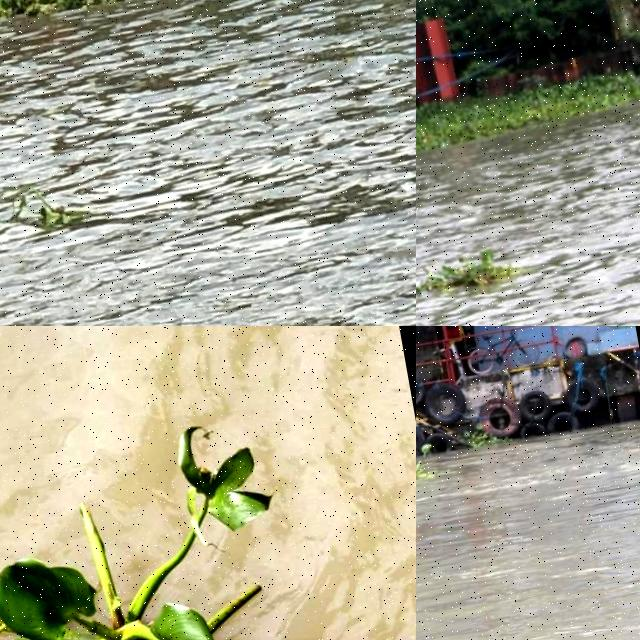water-hyacinth: (1, 427, 331, 640), (417, 28, 640, 199), (1, 185, 103, 232), (417, 437, 475, 497)
